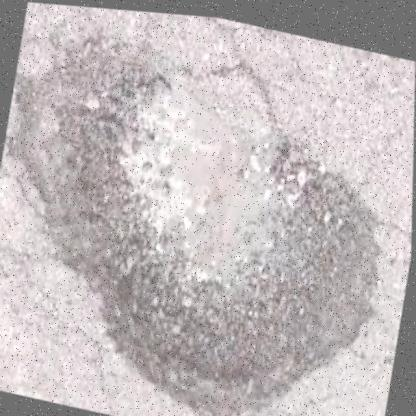pothole: (0, 20, 411, 416)
